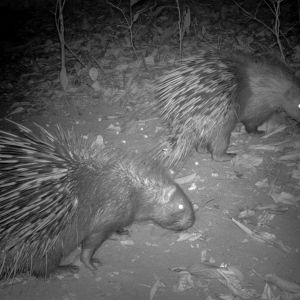porcupine: (1, 108, 208, 284), (150, 42, 300, 170)
